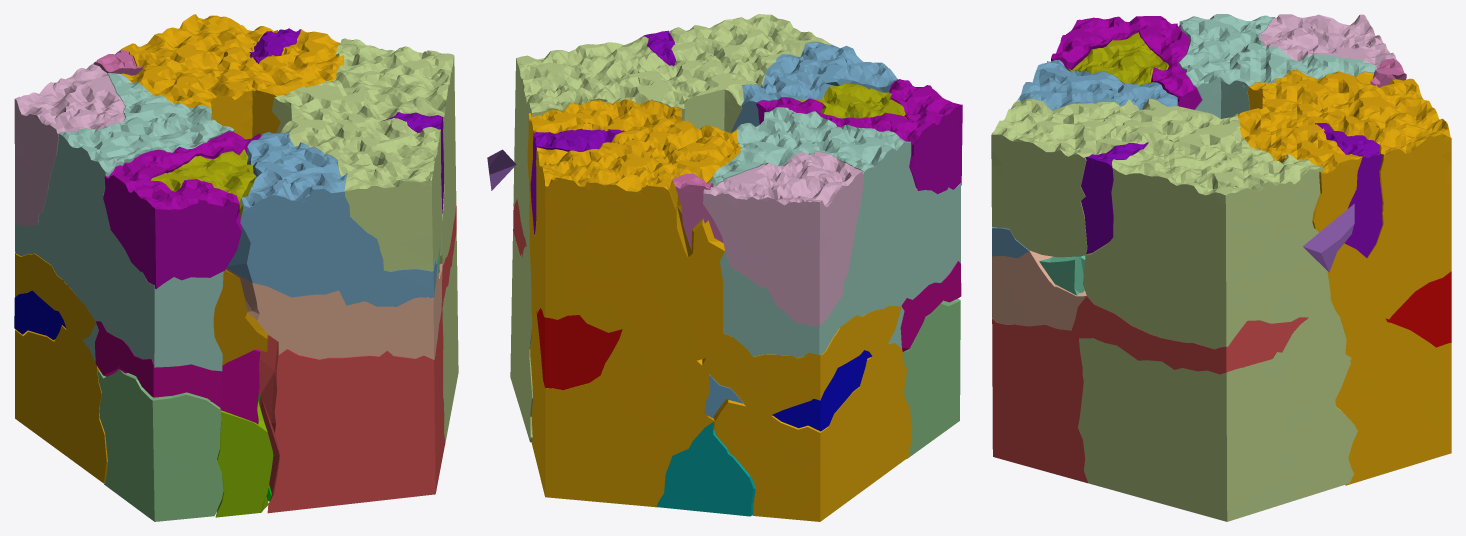
The model's file is fractured_2_28pcs.glb.
3 views of the same model, side by side, from view 1: azimuth 30°, elevation 25°; view 2: azimuth 150°, elevation 25°; view 3: azimuth 270°, elevation 25° (orthographic).
Parts seen in each view (by area): view 1: piece_5.obj, piece_0.obj, piece_1.obj, piece_4.obj, piece_2.obj, piece_3.obj, piece_12.obj, piece_7.obj, piece_6.obj, piece_14.obj, piece_15.obj, piece_17.obj (+6 smaller); view 2: piece_0.obj, piece_4.obj, piece_5.obj, piece_6.obj, piece_12.obj, piece_3.obj, piece_2.obj, piece_13.obj, piece_9.obj, piece_10.obj, piece_11.obj, piece_15.obj (+5 smaller); view 3: piece_5.obj, piece_0.obj, piece_1.obj, piece_4.obj, piece_12.obj, piece_7.obj, piece_2.obj, piece_6.obj, piece_16.obj, piece_18.obj, piece_9.obj, piece_11.obj (+3 smaller).
Part boxes in pixels (box(x1,y1,x2,y2)): piece_5.obj: box(271, 38, 458, 444); piece_0.obj: box(15, 14, 344, 483); piece_1.obj: box(259, 204, 456, 513); piece_4.obj: box(15, 73, 234, 371); piece_2.obj: box(226, 130, 437, 306); piece_3.obj: box(97, 369, 223, 521); piece_12.obj: box(103, 131, 260, 288); piece_7.obj: box(225, 263, 442, 359); piece_6.obj: box(14, 62, 124, 225); piece_14.obj: box(215, 401, 273, 517); piece_15.obj: box(95, 321, 222, 407); piece_17.obj: box(213, 269, 268, 365); piece_0.obj: box(527, 99, 912, 521); piece_4.obj: box(709, 107, 960, 358); piece_5.obj: box(510, 14, 832, 442); piece_6.obj: box(703, 151, 864, 326); piece_12.obj: box(756, 79, 962, 193); piece_3.obj: box(902, 298, 960, 458); piece_2.obj: box(731, 42, 897, 132); piece_13.obj: box(656, 421, 755, 516); piece_9.obj: box(536, 308, 622, 390); piece_10.obj: box(772, 350, 871, 431); piece_11.obj: box(798, 83, 906, 118); piece_15.obj: box(900, 261, 961, 351); piece_5.obj: box(991, 98, 1357, 521); piece_0.obj: box(1238, 69, 1451, 485); piece_1.obj: box(992, 296, 1308, 483); piece_4.obj: box(1178, 14, 1376, 119); piece_12.obj: box(1051, 16, 1201, 109); piece_7.obj: box(992, 250, 1086, 330); piece_2.obj: box(992, 60, 1177, 258); piece_6.obj: box(1259, 14, 1400, 66); piece_16.obj: box(1315, 123, 1382, 257); piece_18.obj: box(1081, 142, 1148, 254); piece_9.obj: box(1385, 271, 1451, 347); piece_11.obj: box(1068, 32, 1168, 85).
Size of the model in its own units: 0.9618 by 0.7916 by 0.9986.
